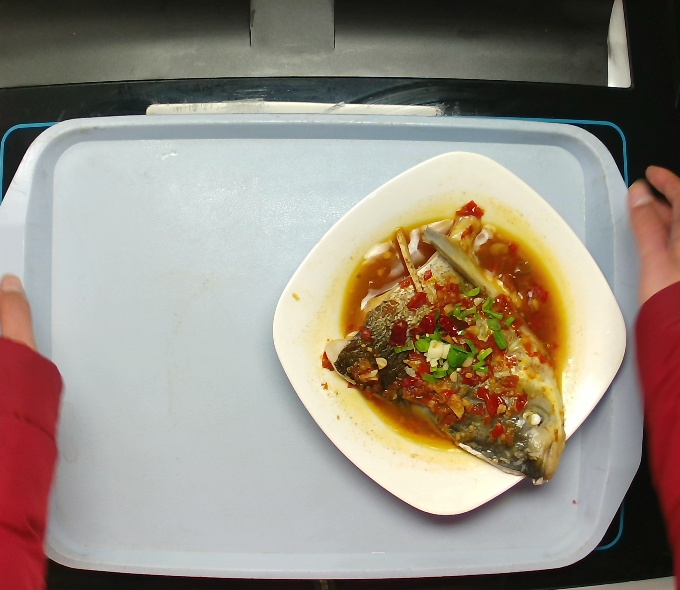wcq-DuoJiaoYuTou: (316, 196, 585, 502)
